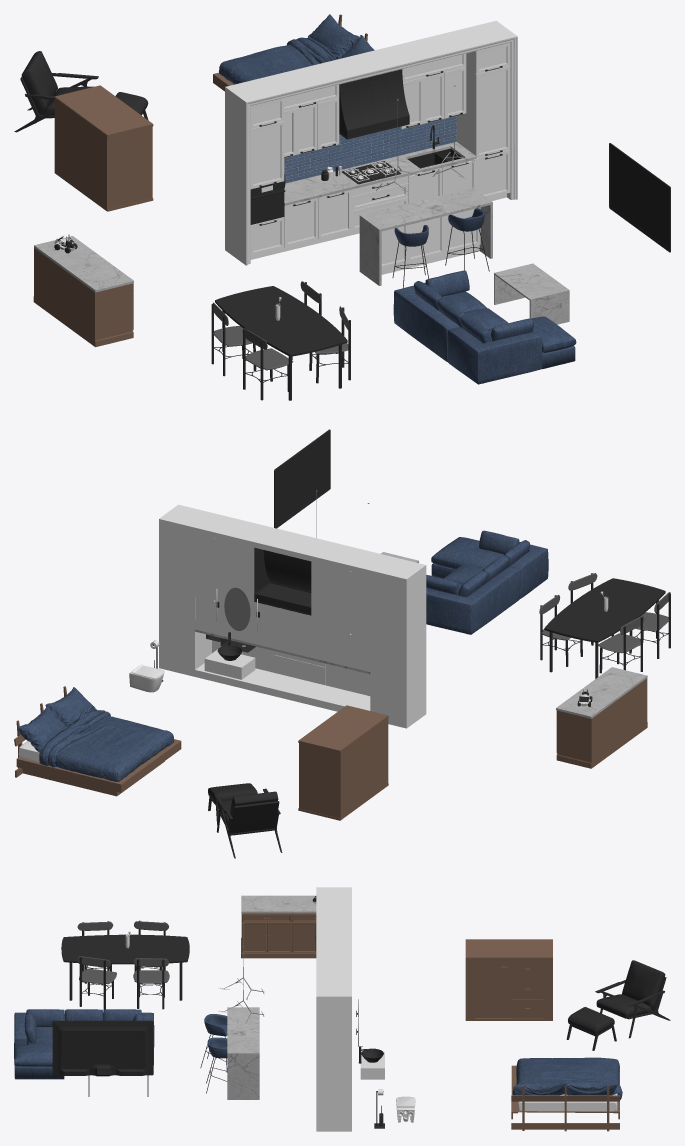
Rendered from Decoration.dae.
The picture shows the model from 3 angles, top to bottom: view 1: azimuth 30°, elevation 25°; view 2: azimuth 150°, elevation 25°; view 3: azimuth 270°, elevation 25°; orthographic projection. The views are drawn at different scales.
Parts seen in each view (by area): view 1: cabinet_hutch.001, sofa, Commode.001, chairs, cabinet_hutch, sofa.001, Samsung_F_6100_32, Plane.003, armchair_001; view 2: cabinet_hutch.001, sofa.001, sofa, Commode.001, chairs, cabinet_hutch, Samsung_F_6100_32, armchair_001, Plane, Circle, Wc; view 3: cabinet_hutch.001, Commode.001, sofa.001, chairs, Samsung_F_6100_32, cabinet_hutch, sofa, armchair_001, Wc, Plane.
Boxes of the visible parts, x1,y1,x2,y2 form: cabinet_hutch.001: (225,20,517,287); sofa: (393,270,576,384); Commode.001: (54,85,153,211); chairs: (211,281,350,400); cabinet_hutch: (33,236,133,347); sofa.001: (213,14,374,91); Samsung_F_6100_32: (609,143,670,252); Plane.003: (494,263,569,324); armchair_001: (14,51,148,132); cabinet_hutch.001: (159,490,426,728); sofa.001: (14,686,181,796); sofa: (426,530,548,634); Commode.001: (298,705,388,820); chairs: (539,573,670,678); cabinet_hutch: (556,667,647,768); Samsung_F_6100_32: (274,429,330,528); armchair_001: (208,783,282,858); Plane: (204,649,255,679); Circle: (224,587,250,630); Wc: (129,640,164,692); cabinet_hutch.001: (200,887,351,1131); Commode.001: (465,939,552,1020); sofa.001: (511,1057,622,1131); chairs: (61,920,189,1009); Samsung_F_6100_32: (52,1020,153,1076); cabinet_hutch: (241,895,316,958); sofa: (14,1009,154,1079); armchair_001: (566,960,670,1050); Wc: (374,1089,415,1128); Plane: (360,1052,384,1079).
Bounding box in the file's own units: 8.25 × 12.12 × 2.9.
Materials: 11 (9 with a texture image).
